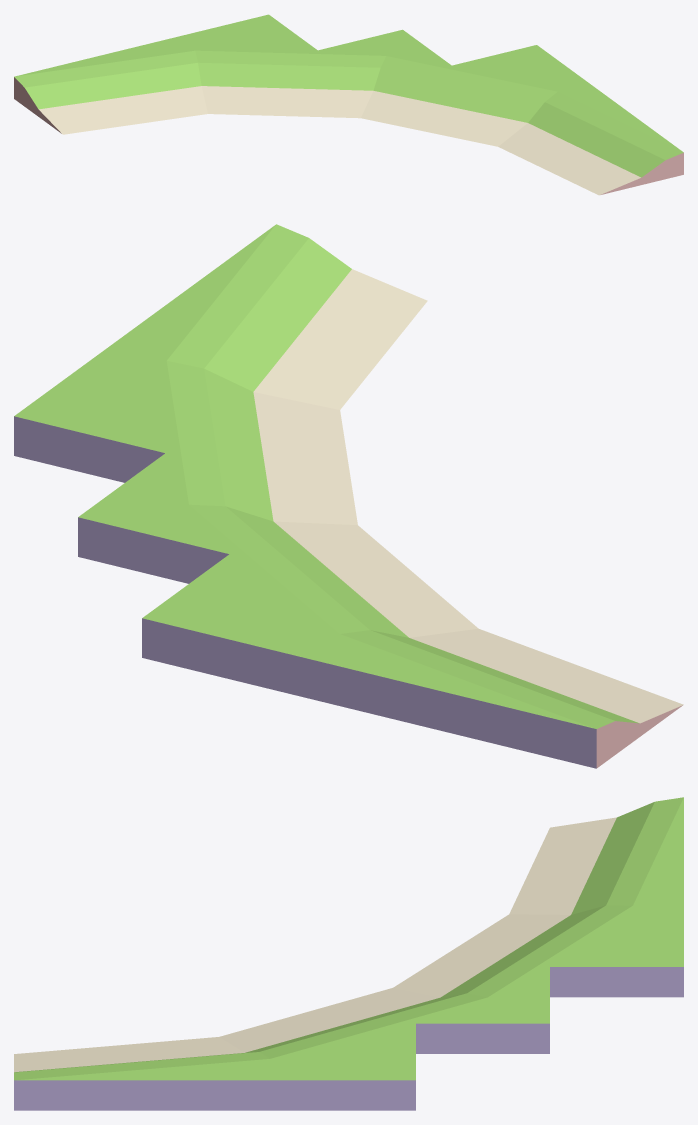
File: Path_Terrain_Basic_Curve_Inner_5x5.glb
3 views of the same model, one above another, from view 1: azimuth 30°, elevation 25°; view 2: azimuth 150°, elevation 25°; view 3: azimuth 270°, elevation 25° (orthographic). The views are drawn at different scales.
Visible parts, largest first — view 1: Path_Terrain_Basic_Curve_Inner_5x5; view 2: Path_Terrain_Basic_Curve_Inner_5x5; view 3: Path_Terrain_Basic_Curve_Inner_5x5.
Part boxes in pixels (box(x1,y1,x2,y2)): Path_Terrain_Basic_Curve_Inner_5x5: box(14, 14, 683, 195); Path_Terrain_Basic_Curve_Inner_5x5: box(14, 224, 683, 768); Path_Terrain_Basic_Curve_Inner_5x5: box(14, 797, 683, 1110).
Size of the model in its own units: 500 by 25 by 500.
